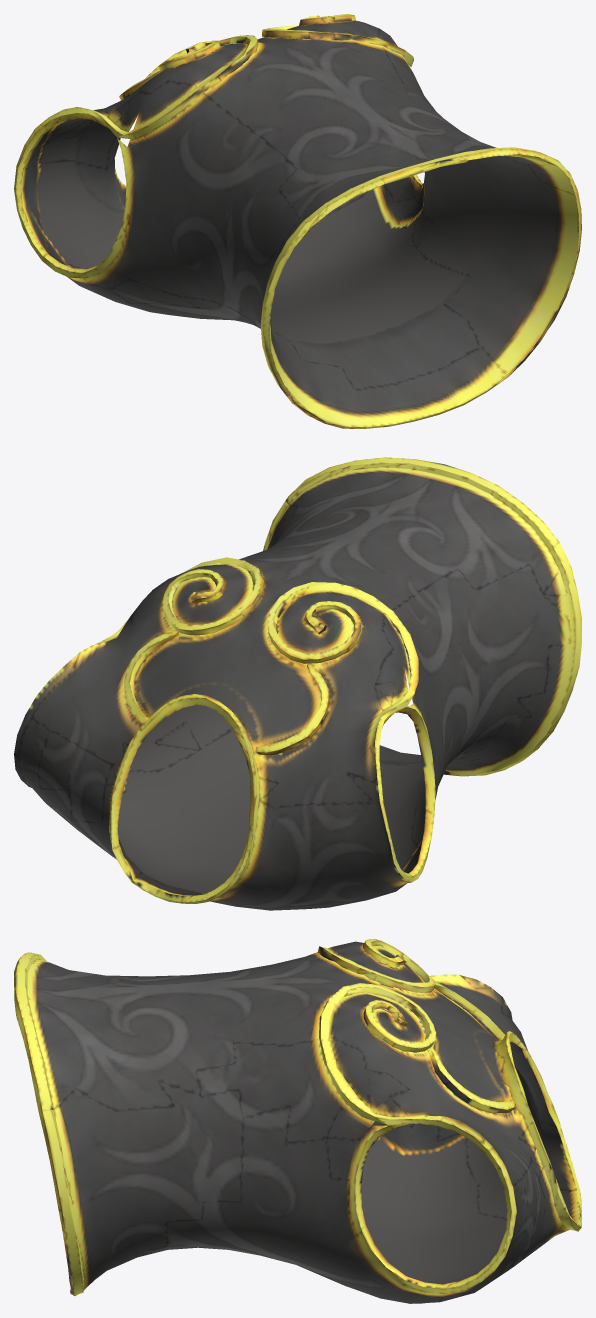
The model's file is item_mm9_10230.glb.
3 views of the same model, one above another, from view 1: azimuth 30°, elevation 25°; view 2: azimuth 150°, elevation 25°; view 3: azimuth 270°, elevation 25° (orthographic). The views are drawn at different scales.
Parts seen in each view (by area): view 1: d10230; view 2: d10230; view 3: d10230.
Part boxes in pixels (bbox=[...]): d10230: bbox=[14, 14, 581, 428]; d10230: bbox=[14, 457, 581, 910]; d10230: bbox=[14, 939, 581, 1303].
Bounding box in the file's own units: 0.7985 × 0.5847 × 1.01.
1 material, 1 textured.
